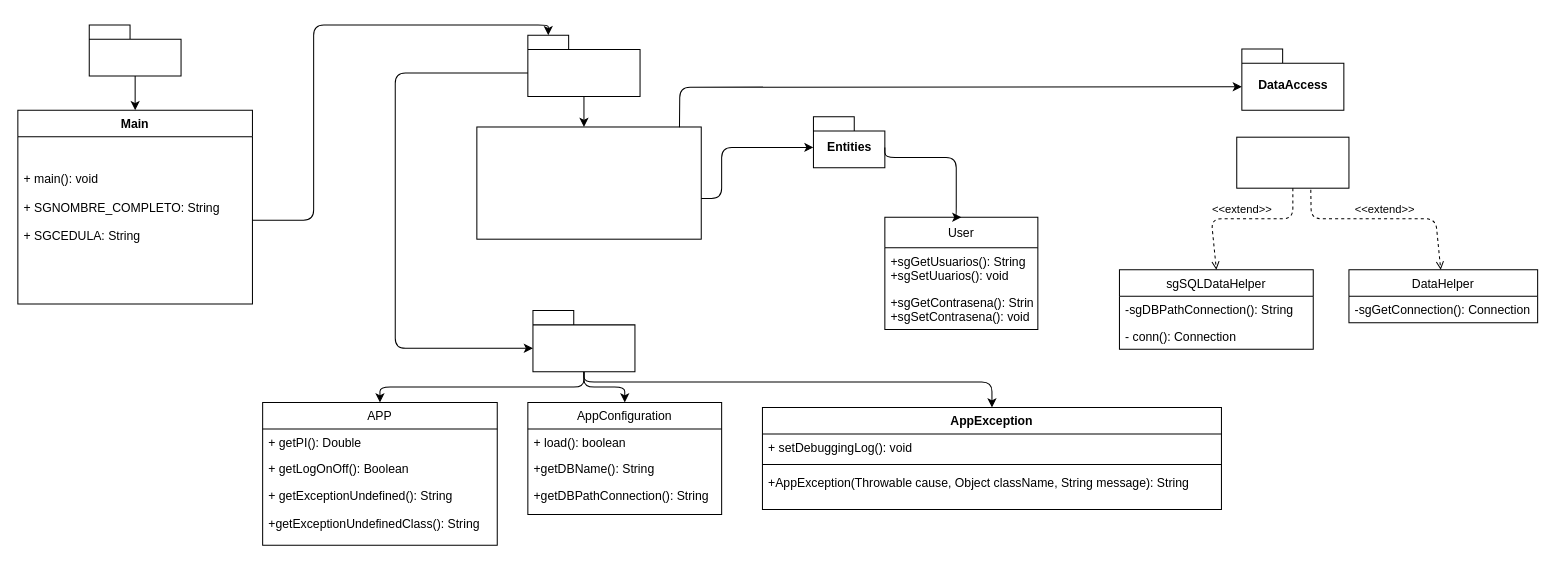
The diagram is 1556 pixels wide and 566 high, and some of its shapes have lost their labels. The shapes that lost their labels are listed below. From the top down, each one's centre as x and y in pixels, then its label:
At point (134, 50): "Examen".
At point (583, 65): "BusinessLogic".
At point (588, 182): "Login + sgUsuariosBL: String + method1(sgGetAllUsuarios ): ArrayList".
At point (1292, 162): "sgUsuariosDAC".
At point (583, 341): "Framework".
